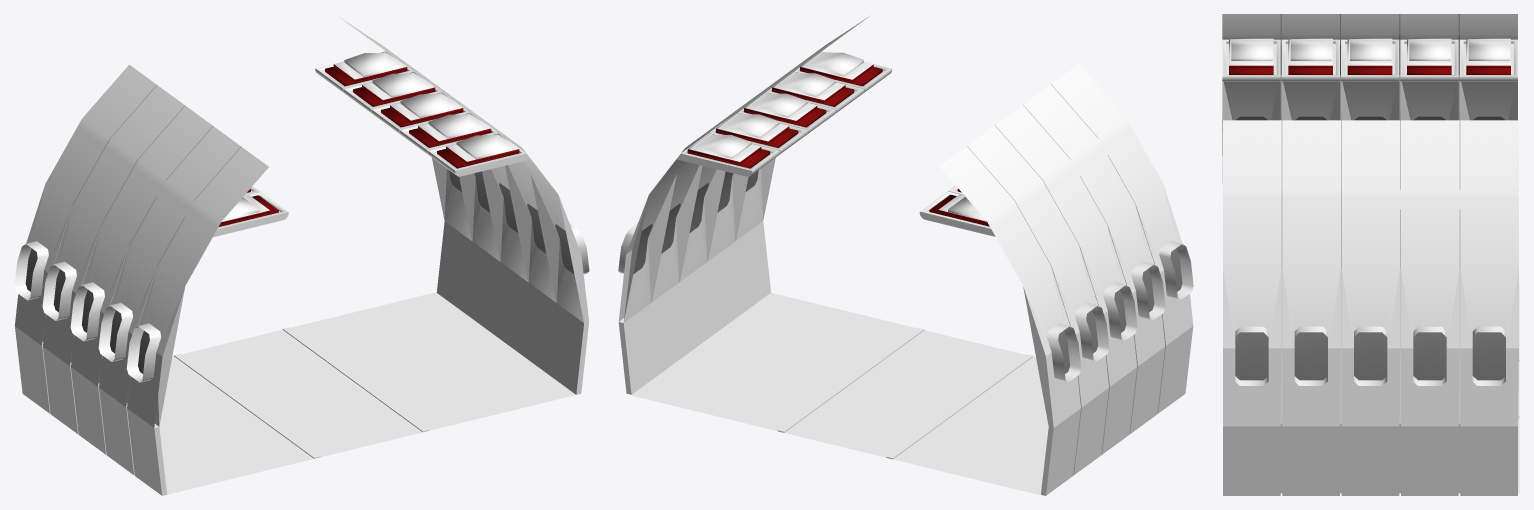
Rendered from AirPlaneWall.fbx.
The picture shows the model from 3 angles, left to right: view 1: azimuth 30°, elevation 25°; view 2: azimuth 150°, elevation 25°; view 3: azimuth 270°, elevation 25°; orthographic projection. The views are drawn at different scales.
Parts seen in each view (by area): view 1: Group_013, Group_001, panel_001, Group_003, Group_005, Group_009, Group_007, Group_011, Group_018; view 2: Group_013, Group_001, panel_001, Group_011, Group_007, Group_003, Group_009, Group_005, Group_014; view 3: panel_001, Group_013, Group_020, Group_022, Group_018, Group_016, Group_014, Group_001.
Boxes of the visible parts, left/top/right/bottom form: Group_013: left=14, top=64, right=288, bottom=495; Group_001: left=159, top=292, right=575, bottom=494; panel_001: left=315, top=15, right=589, bottom=394; Group_003: left=437, top=133, right=519, bottom=168; Group_005: left=409, top=113, right=491, bottom=147; Group_009: left=353, top=72, right=435, bottom=106; Group_007: left=381, top=92, right=463, bottom=127; Group_011: left=325, top=51, right=407, bottom=86; Group_018: left=219, top=195, right=278, bottom=226; Group_013: left=919, top=64, right=1193, bottom=495; Group_001: left=631, top=292, right=1048, bottom=495; panel_001: left=618, top=16, right=892, bottom=394; Group_011: left=687, top=134, right=770, bottom=168; Group_007: left=744, top=92, right=826, bottom=127; Group_003: left=800, top=51, right=882, bottom=86; Group_009: left=716, top=113, right=798, bottom=147; Group_005: left=772, top=72, right=854, bottom=106; Group_014: left=929, top=194, right=989, bottom=226; panel_001: left=1223, top=120, right=1518, bottom=495; Group_013: left=1222, top=14, right=1517, bottom=182; Group_020: left=1347, top=38, right=1392, bottom=74; Group_022: left=1288, top=38, right=1332, bottom=74; Group_018: left=1229, top=38, right=1273, bottom=74; Group_016: left=1407, top=38, right=1451, bottom=74; Group_014: left=1466, top=38, right=1510, bottom=74; Group_001: left=1518, top=282, right=1519, bottom=493.
Bounding box in the file's own units: 3983 × 2577 × 2167.
